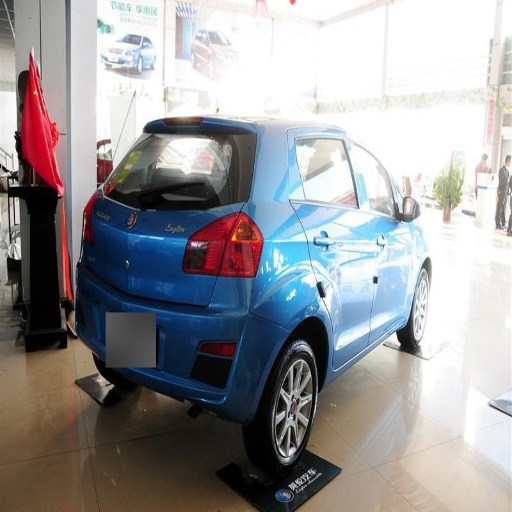back_bumper: (70, 258, 291, 419)
back_right_door: (293, 134, 380, 351)
trunk: (89, 195, 233, 305)
